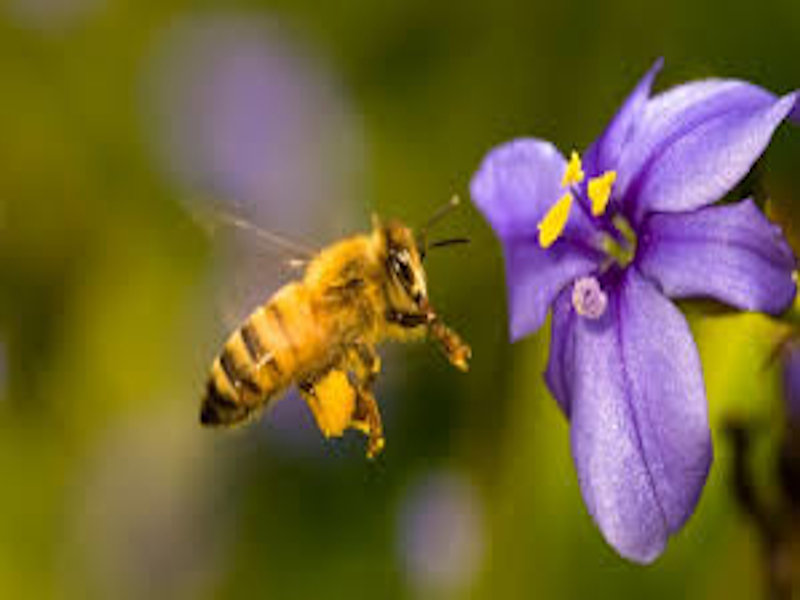abeja: (179, 171, 493, 470)
